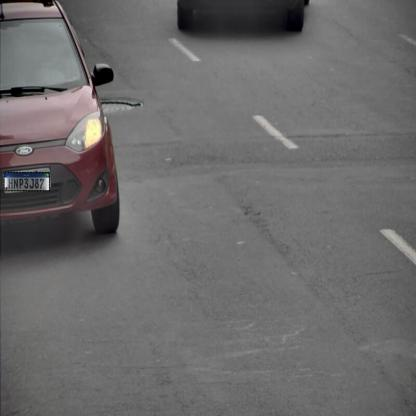PlacaM: (4, 172, 50, 191)
